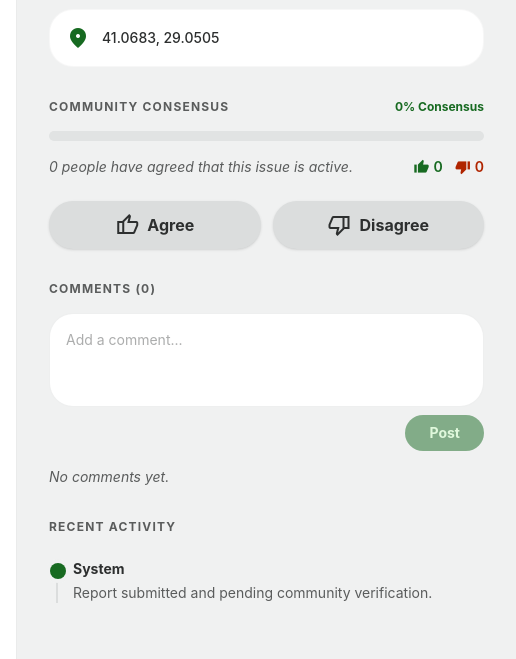
ReportPanel › posts a new comment and prepends it to the thread
The width and height of the screenshot is (516, 659).
(page scrolled)
In the text box with placeholder "Add a comment...": (266, 360) top-left (49, 312), bottom-right (484, 406), type "Thanks for the detailed report."
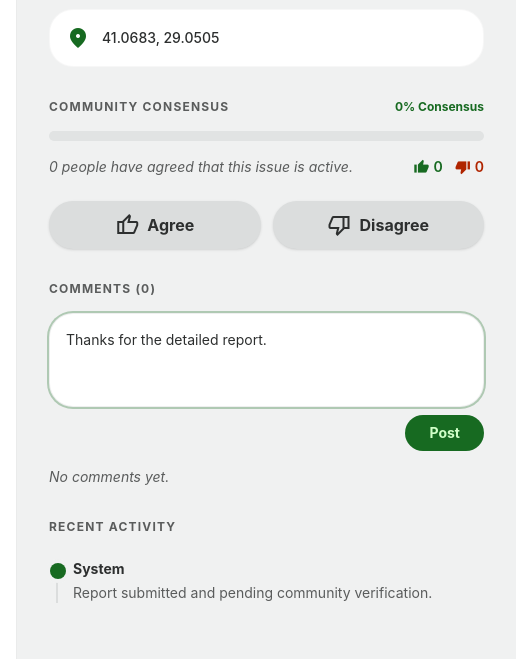
Click the button "Post": (445, 432) top-left (406, 414), bottom-right (484, 450)
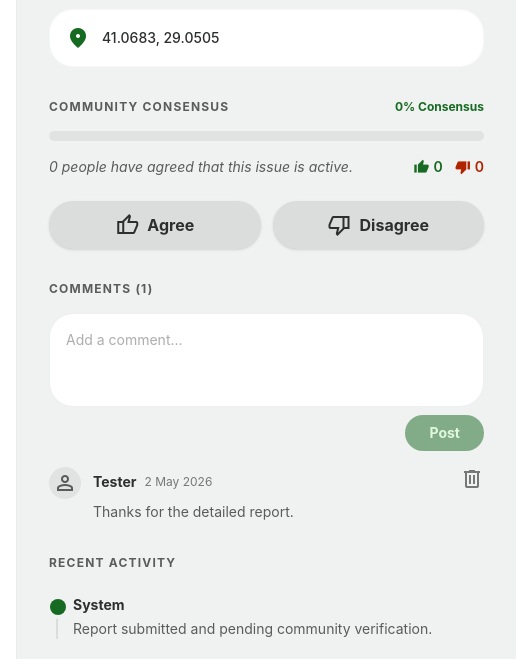
Expected: the text "Thanks for the detailed report." is shown, top-left (93, 502), bottom-right (294, 520)
